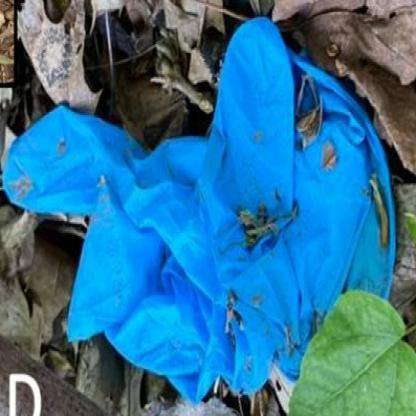with_gloves: (4, 18, 415, 362)
